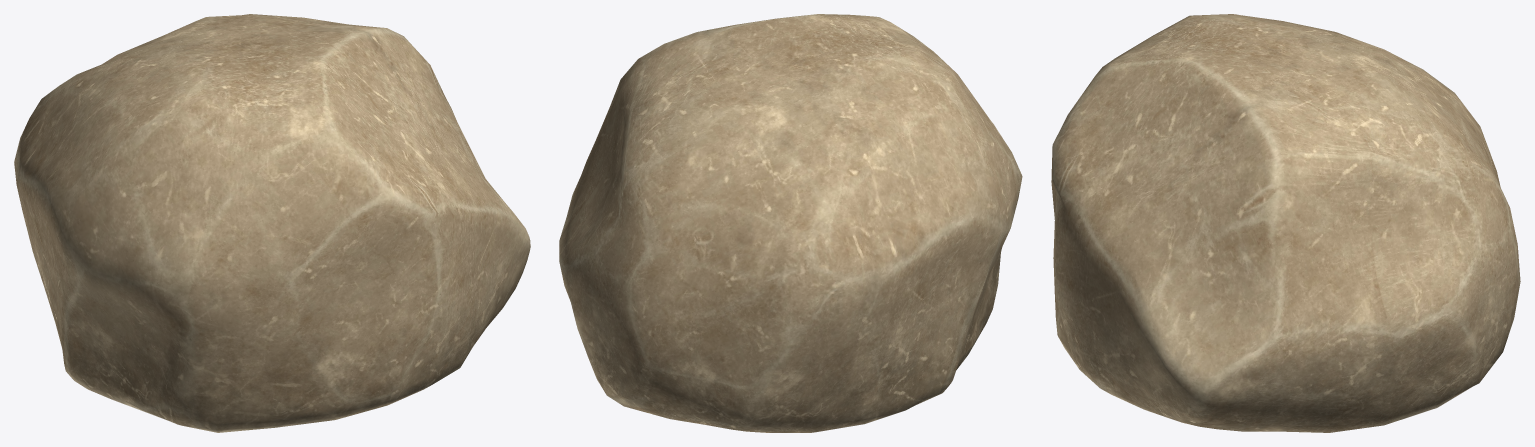
Rendered from rock.gltf.
3 renders of one model, left to right at view 1: azimuth 30°, elevation 25°; view 2: azimuth 150°, elevation 25°; view 3: azimuth 270°, elevation 25°, orthographic. The views are drawn at different scales.
Visible parts, largest first — view 1: Rock; view 2: Rock; view 3: Rock.
Part boxes in pixels (x1,y1,x2,y2): Rock: [14, 14, 530, 432]; Rock: [559, 14, 1022, 432]; Rock: [1051, 14, 1520, 432].
Size of the model in its own units: 2 by 1.45 by 1.9.
1 material, 1 textured.
